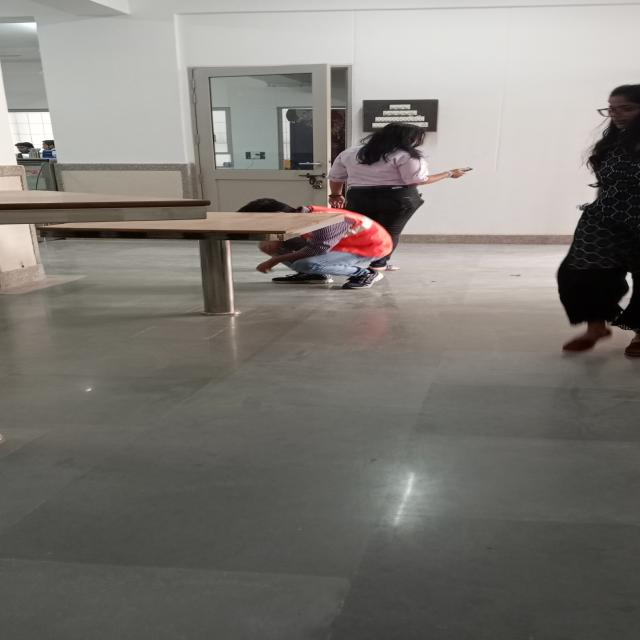unsafe: (328, 121, 444, 211)
